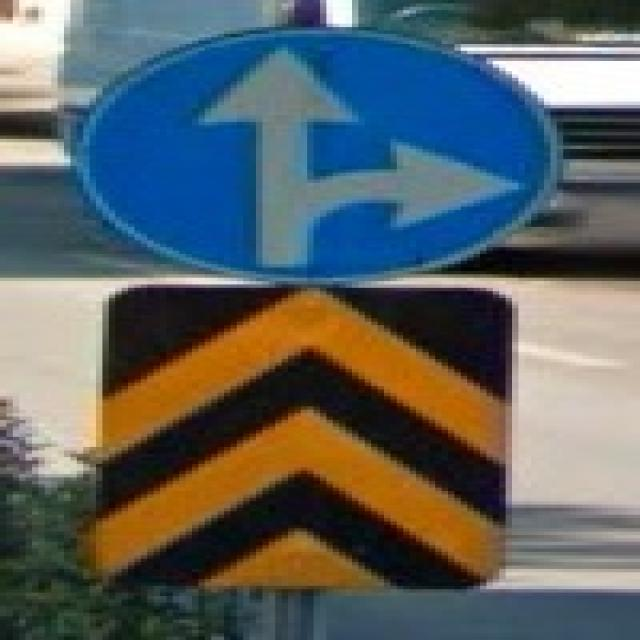Straight or Right: (75, 32, 555, 276)
